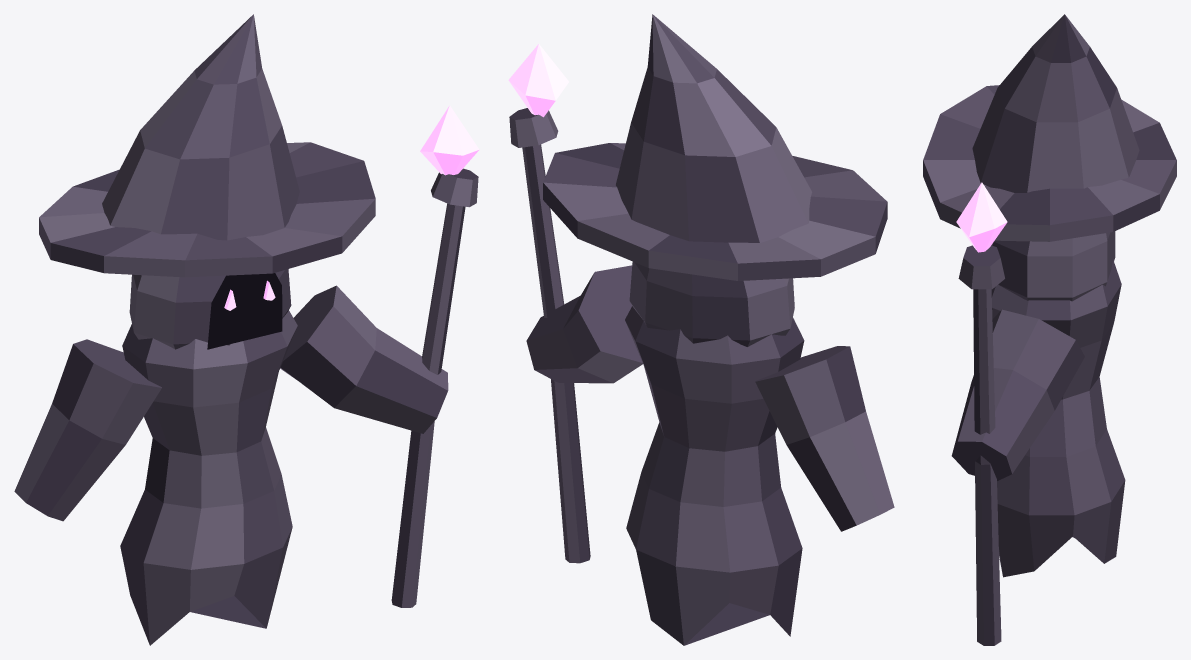
The model's file is wisp_caster.glb.
The picture shows the model from 3 angles, left to right: view 1: azimuth 30°, elevation 25°; view 2: azimuth 150°, elevation 25°; view 3: azimuth 270°, elevation 25°; orthographic projection. The views are drawn at different scales.
Visible parts, largest first — view 1: Robe, Hat_Cone, Hat_Brim, Arm_R_Sleeve, Arm_L_Sleeve, Staff, Hood, Face_Void, Crystal, Staff_Crystal_Collar; view 2: Robe, Hat_Cone, Hat_Brim, Arm_L_Sleeve, Hood, Arm_R_Sleeve, Staff, Crystal, Staff_Crystal_Collar; view 3: Robe, Hat_Cone, Hat_Brim, Arm_R_Sleeve, Staff, Hood, Crystal, Staff_Crystal_Collar.
Part boxes in pixels (left/top/right/bottom): Robe: left=120, top=310, right=297, bottom=645; Hat_Cone: left=102, top=14, right=299, bottom=240; Hat_Brim: left=39, top=142, right=375, bottom=277; Arm_R_Sleeve: left=280, top=285, right=448, bottom=433; Arm_L_Sleeve: left=14, top=339, right=161, bottom=521; Staff: left=391, top=203, right=465, bottom=607; Hood: left=129, top=269, right=291, bottom=349; Face_Void: left=207, top=273, right=282, bottom=349; Crystal: left=420, top=105, right=479, bottom=175; Staff_Crystal_Collar: left=431, top=168, right=478, bottom=207; Robe: left=625, top=306, right=804, bottom=645; Hat_Cone: left=616, top=14, right=811, bottom=242; Hat_Brim: left=543, top=143, right=887, bottom=280; Arm_L_Sleeve: left=755, top=346, right=894, bottom=531; Hood: left=629, top=261, right=794, bottom=346; Arm_R_Sleeve: left=526, top=265, right=642, bottom=383; Staff: left=522, top=144, right=590, bottom=563; Crystal: left=508, top=44, right=568, bottom=117; Staff_Crystal_Collar: left=509, top=108, right=558, bottom=147; Robe: left=991, top=259, right=1125, bottom=577; Hat_Cone: left=972, top=14, right=1139, bottom=192; Hat_Brim: left=923, top=85, right=1176, bottom=241; Arm_R_Sleeve: left=951, top=309, right=1084, bottom=480; Staff: left=973, top=289, right=1001, bottom=645; Hood: left=991, top=231, right=1115, bottom=301; Crystal: left=956, top=182, right=1007, bottom=252; Staff_Crystal_Collar: left=958, top=245, right=1004, bottom=289.
Bounding box in the file's own units: 1.26 × 1.73 × 0.69.
